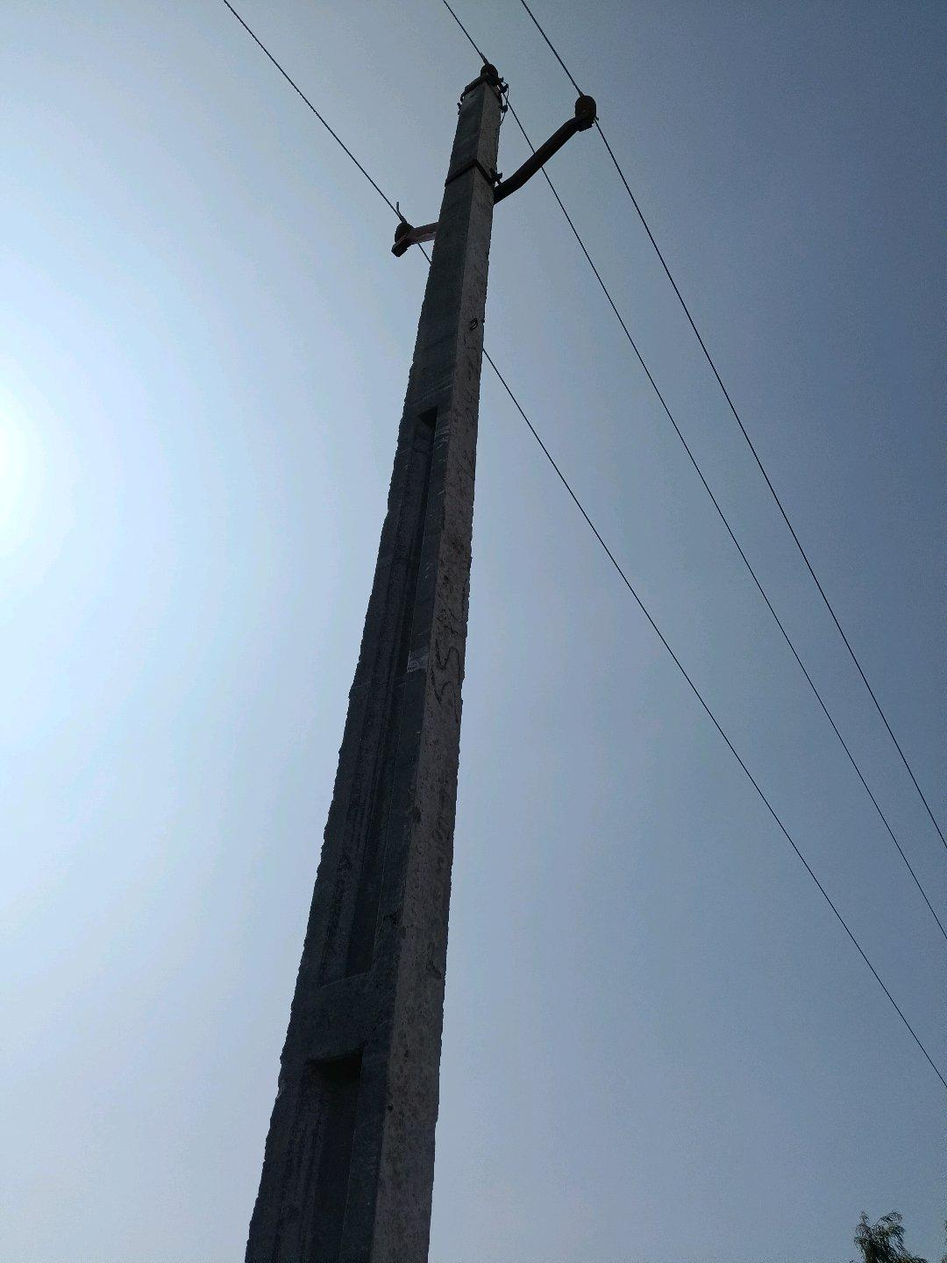{"0" "insulator", "1" "pole", "2" "crossarm", "3" "conductor", "4" "street_: (245, 65, 596, 1262)
